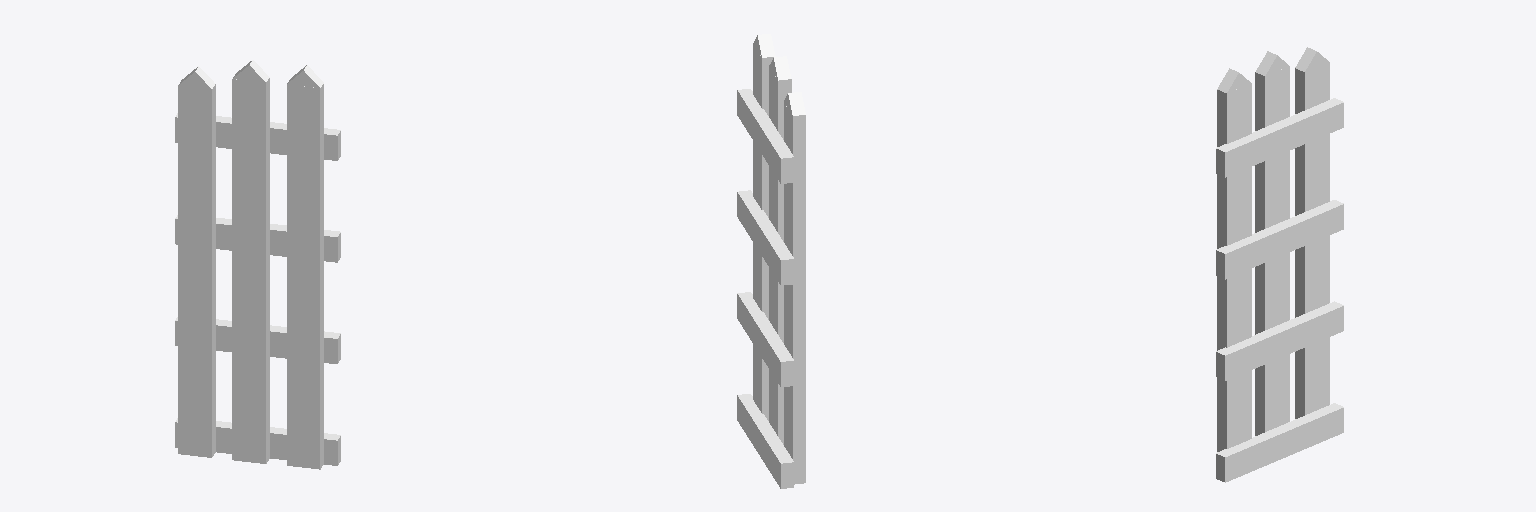
The model's file is thin_white_picket_fence_ne_down.obj.
The picture shows the model from 3 angles: view 1: azimuth 30°, elevation 25°; view 2: azimuth 150°, elevation 25°; view 3: azimuth 270°, elevation 25°; orthographic projection.
Visible parts, largest first — view 1: cube.005, cube.026, cube.027, cube.007, cube.028, cube.002, cube.022, cube, cube.001, cube.2; view 2: cube.027, cube.002, cube.001, cube, cube.2, cube.022, cube.028, cube.007, cube.005, cube.026; view 3: cube.028, cube.027, cube.026, cube.007, cube.005, cube.022, cube.001, cube, cube.2, cube.002.
Part boxes in pixels (left/top/right/bottom): cube.005: left=232, top=78, right=269, bottom=272; cube.026: left=232, top=268, right=269, bottom=463; cube.027: left=178, top=262, right=215, bottom=457; cube.007: left=287, top=84, right=323, bottom=278; cube.028: left=287, top=274, right=323, bottom=469; cube.002: left=178, top=84, right=215, bottom=266; cube.022: left=175, top=418, right=340, bottom=465; cube: left=175, top=113, right=340, bottom=160; cube.001: left=175, top=215, right=340, bottom=262; cube.2: left=175, top=317, right=340, bottom=363; cube.027: left=784, top=285, right=805, bottom=484; cube.002: left=784, top=103, right=805, bottom=293; cube.001: left=737, top=190, right=793, bottom=285; cube: left=737, top=89, right=793, bottom=183; cube.2: left=737, top=292, right=793, bottom=386; cube.022: left=737, top=394, right=793, bottom=488; cube.028: left=753, top=243, right=768, bottom=420; cube.007: left=753, top=44, right=773, bottom=217; cube.005: left=769, top=67, right=791, bottom=241; cube.026: left=769, top=268, right=783, bottom=444; cube.028: left=1217, top=274, right=1251, bottom=451; cube.027: left=1295, top=240, right=1329, bottom=418; cube.026: left=1255, top=257, right=1289, bottom=435; cube.007: left=1217, top=83, right=1251, bottom=283; cube.005: left=1255, top=66, right=1289, bottom=266; cube.022: left=1216, top=403, right=1343, bottom=482; cube.001: left=1216, top=200, right=1343, bottom=279; cube: left=1216, top=98, right=1343, bottom=177; cube.2: left=1216, top=301, right=1343, bottom=380; cube.002: left=1295, top=62, right=1329, bottom=249.
Size of the model in its own units: 0.5966 by 1.95 by 0.5745.